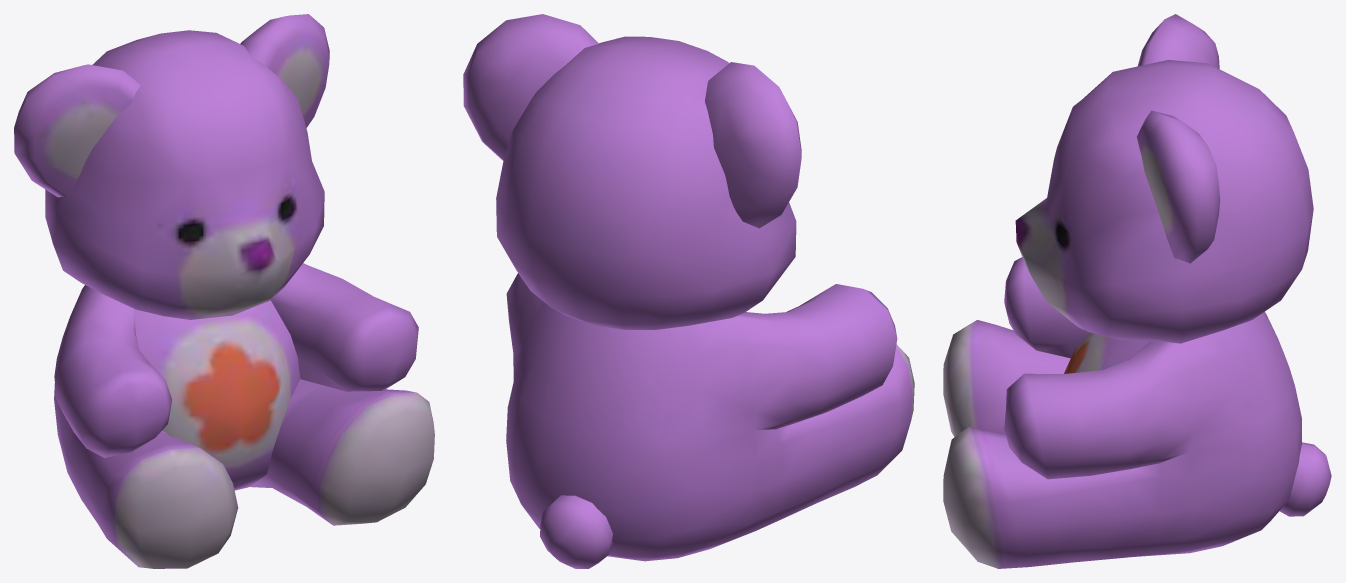
The picture shows the model from 3 angles, left to right: view 1: azimuth 30°, elevation 25°; view 2: azimuth 150°, elevation 25°; view 3: azimuth 270°, elevation 25°; orthographic projection. The views are drawn at different scales.
Bounding box in the file's own units: 5.97 × 7.54 × 5.88.
Materials: 1 (1 with a texture image).
